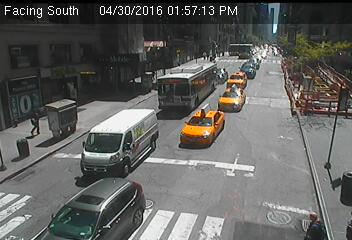neg: (229, 101, 246, 124), (290, 93, 305, 114)
pos: (23, 105, 47, 137)
